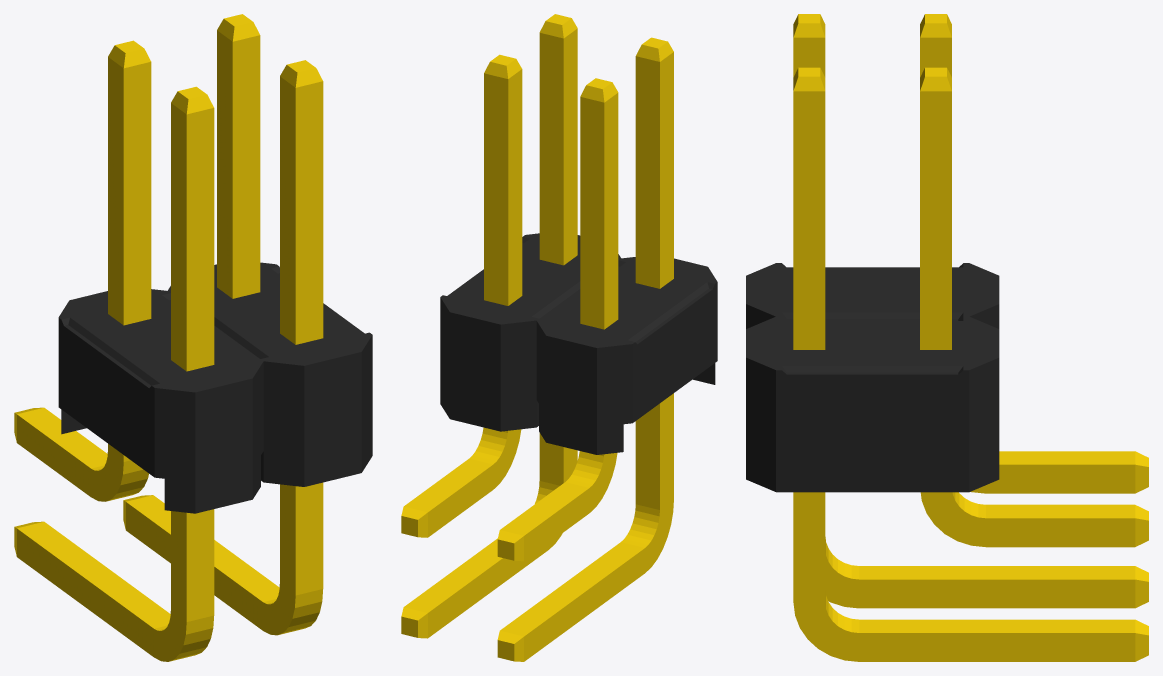
Rendered from PLD-4RD_(DS1022_CONNFLY).obj.
3 views of the same model, side by side, from view 1: azimuth 30°, elevation 25°; view 2: azimuth 150°, elevation 25°; view 3: azimuth 270°, elevation 25° (orthographic). The views are drawn at different scales.
Parts seen in each view (by area): view 1: PLD-4RD_(DS1022_CONNFLY); view 2: PLD-4RD_(DS1022_CONNFLY); view 3: PLD-4RD_(DS1022_CONNFLY).
Part boxes in pixels (bbox=[...]): PLD-4RD_(DS1022_CONNFLY): bbox=[14, 14, 372, 661]; PLD-4RD_(DS1022_CONNFLY): bbox=[401, 14, 717, 661]; PLD-4RD_(DS1022_CONNFLY): bbox=[746, 14, 1148, 661].
Size of the model in its own units: 0.00467 by 0.0119 by 0.00743.
